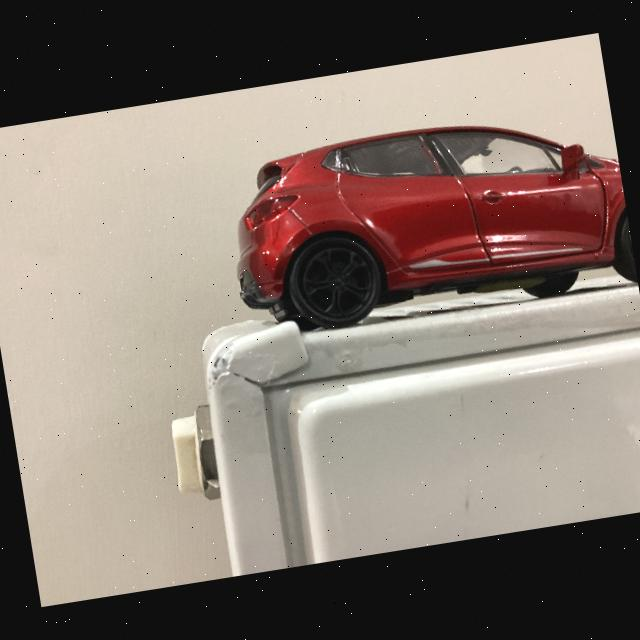Dogru_Jant: (296, 240, 379, 322)
